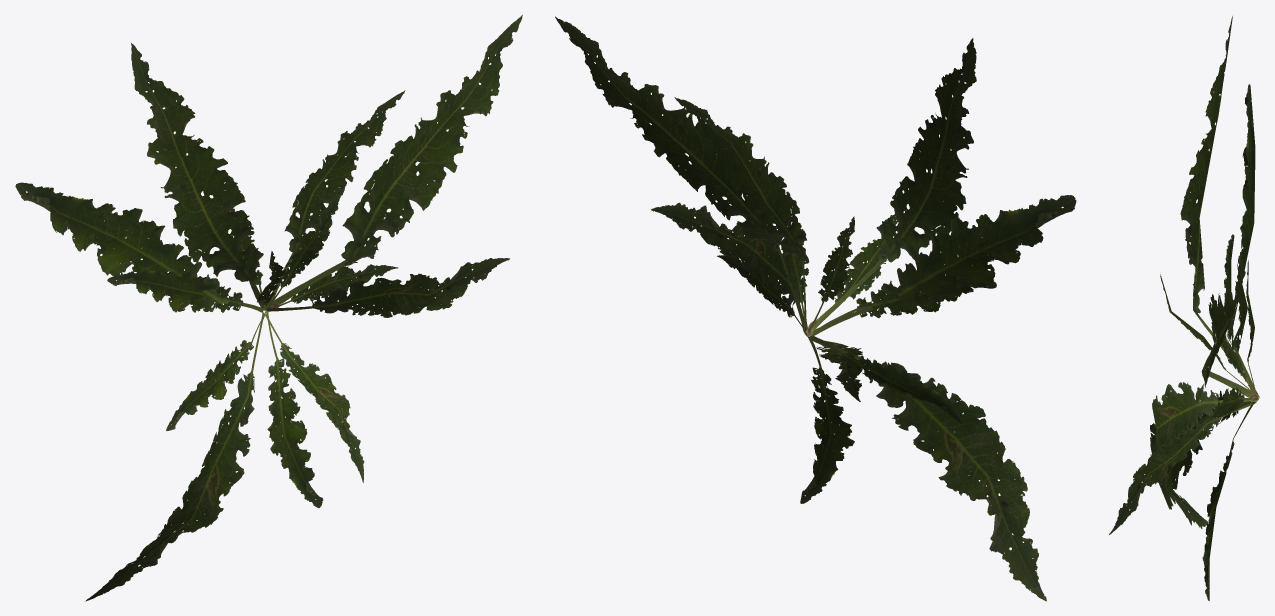
File: Weed_03_Var2_LOD0.fbx
The picture shows the model from 3 angles, left to right: view 1: azimuth 30°, elevation 25°; view 2: azimuth 150°, elevation 25°; view 3: azimuth 270°, elevation 25°; orthographic projection. The views are drawn at different scales.
Parts seen in each view (by area): view 1: Var2_LOD0; view 2: Var2_LOD0; view 3: Var2_LOD0.
Boxes of the visible parts, x1,y1,x2,y2 form: Var2_LOD0: (15,15,522,601); Var2_LOD0: (555,16,1076,601); Var2_LOD0: (1109,16,1259,600).
Bounding box in the file's own units: 51.34 × 52.02 × 13.37.
